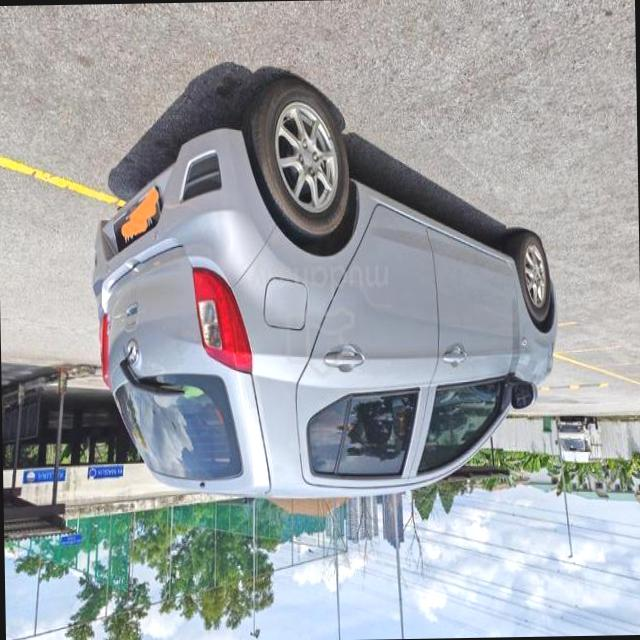PeroduaAxia: (88, 71, 562, 505)
